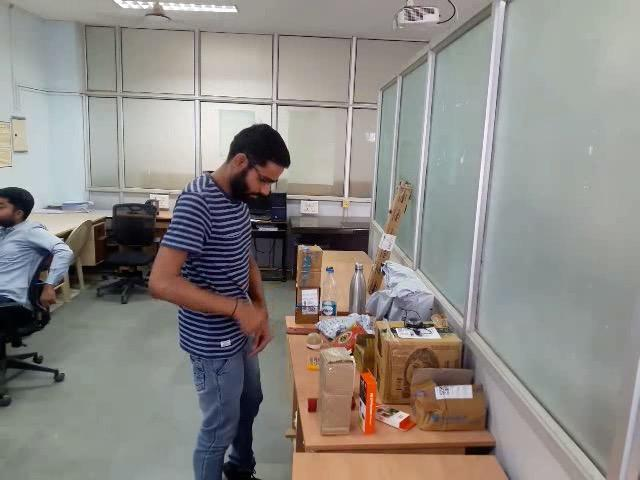shoplifting: (103, 258, 354, 425)
